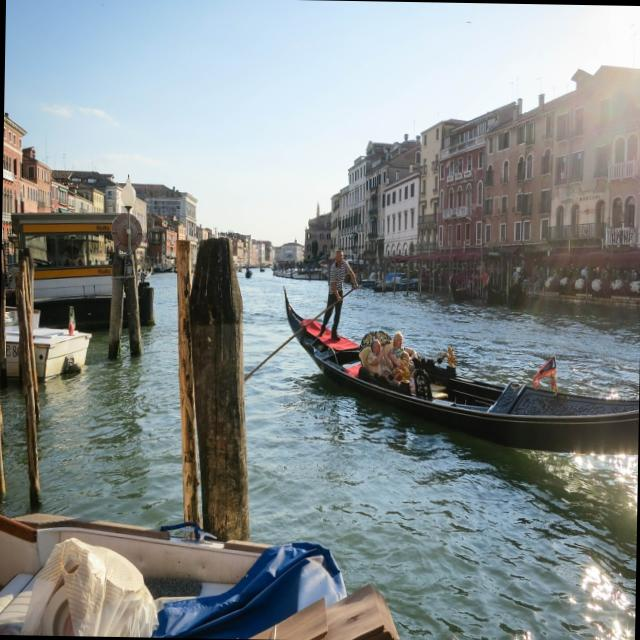boat: (271, 287, 640, 467)
